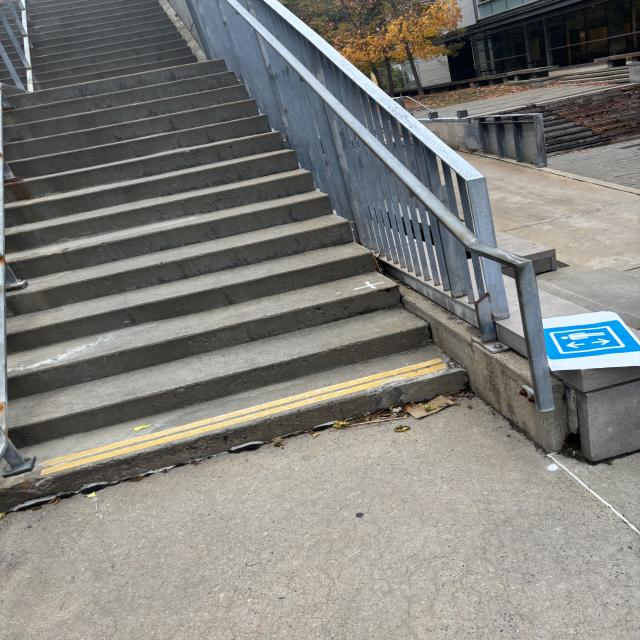elevator: (546, 318, 640, 360)
